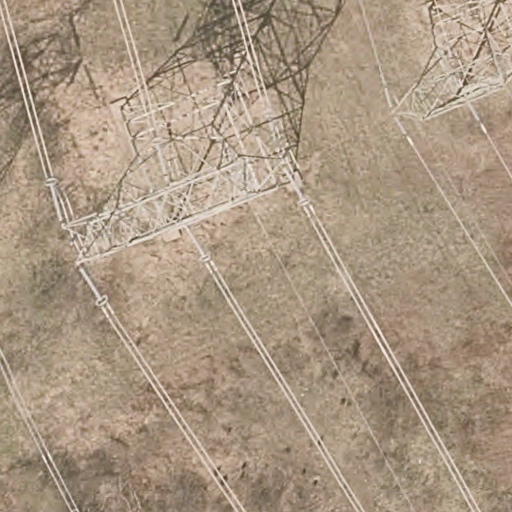TT: (61, 41, 308, 267), (389, 1, 512, 125)
